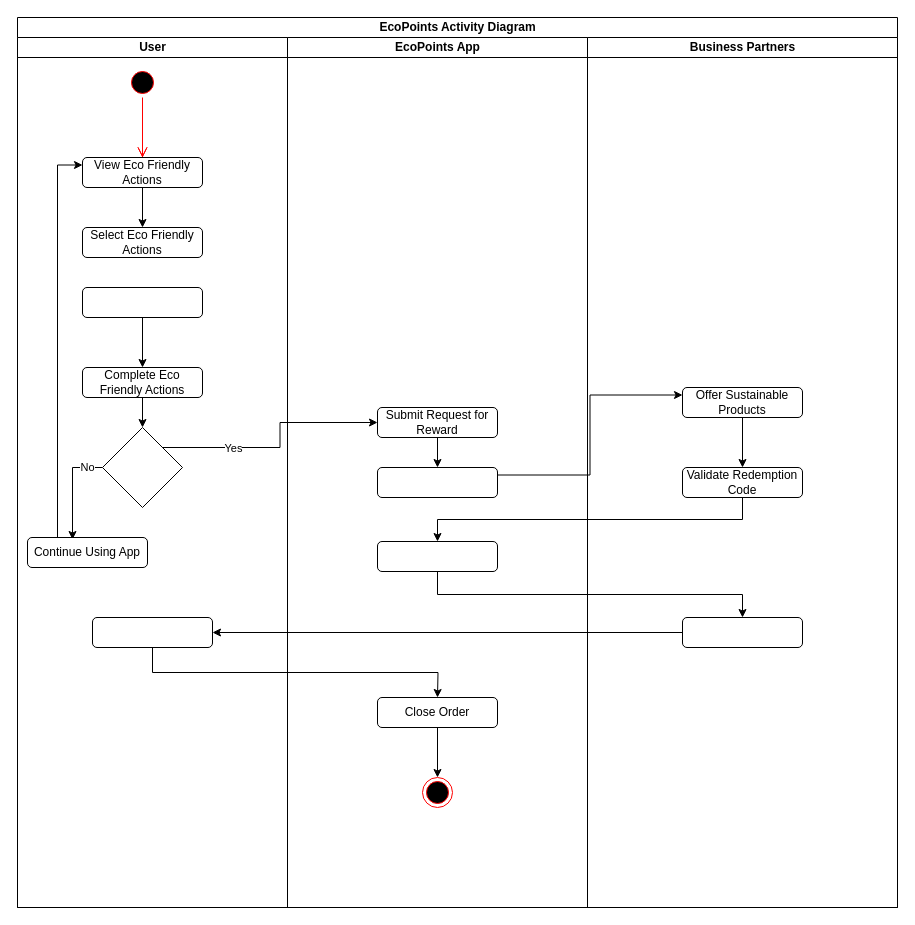
Some shapes in this 915 by 925 pixel diagram are drawn without their labels. The centre of each missing label's shape, as x and y in pixels:
Deliver Reward: the point at 742,632
EcoPoints Received?: the point at 142,467
Generate Redemption Code: the point at 437,482
Initiate Eco Friendly Actions: the point at 142,302
Receive Reward: the point at 152,632
Update Rewards Catalog: the point at 437,556
